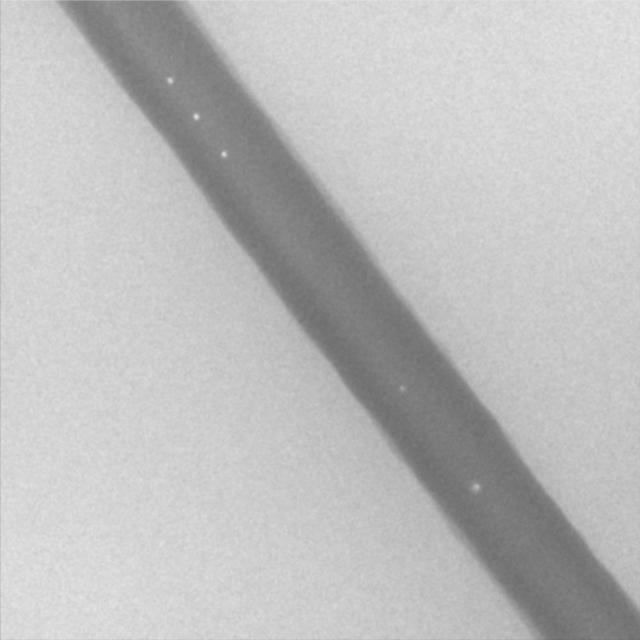air hole: (396, 381, 407, 396), (469, 482, 481, 492), (165, 74, 174, 86), (191, 111, 200, 123), (218, 148, 227, 159)
